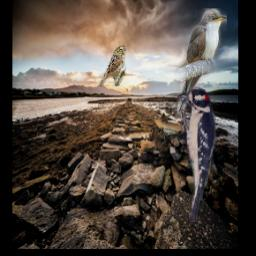Cuckoo: (176, 9, 228, 120)
Sparrow: (98, 46, 127, 87)
Woodpecker: (177, 85, 216, 223)
